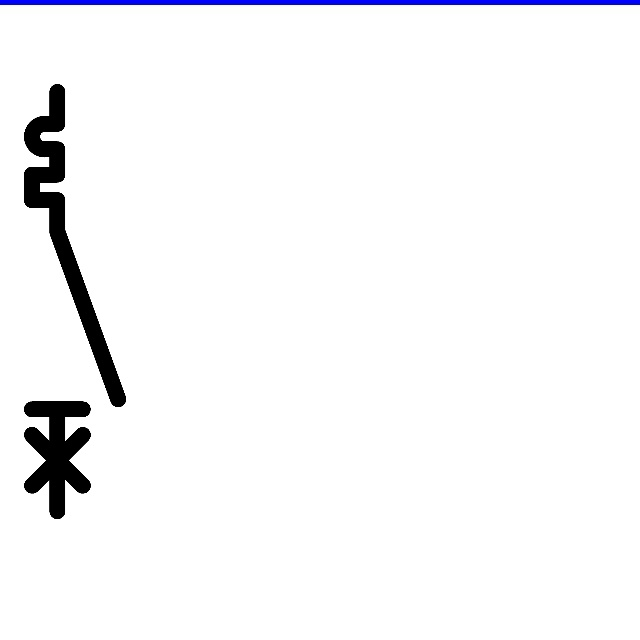interruptor_termomagnetico: (21, 81, 129, 522)
